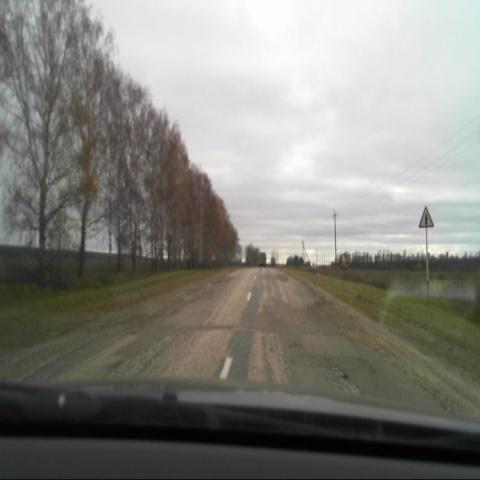2_3_2: (418, 206, 435, 228)
